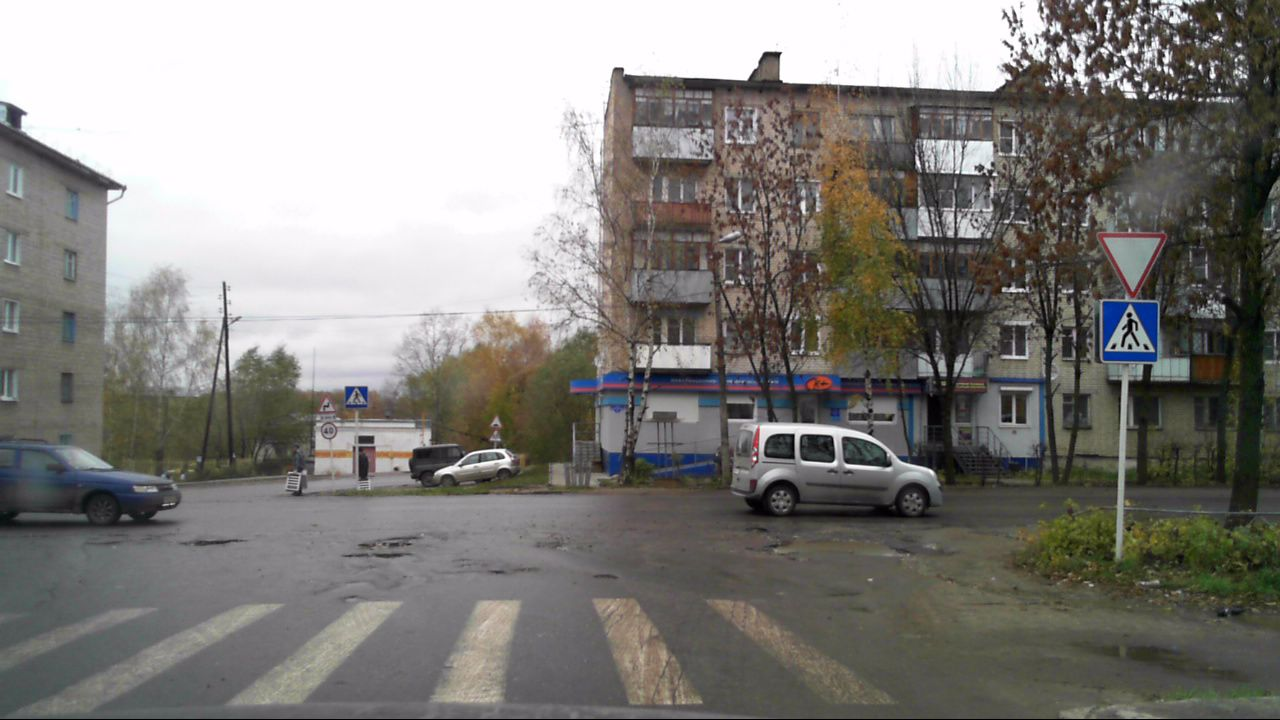speed_warning_40: (319, 421, 340, 441)
